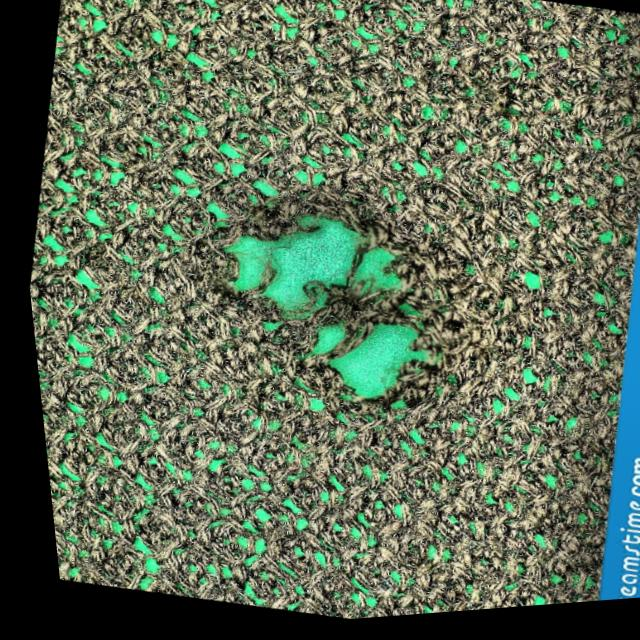Hole: (143, 151, 490, 456)
